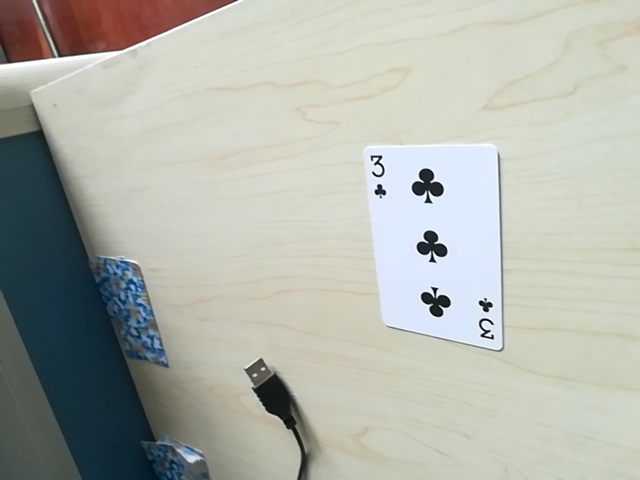mh 3: (366, 153, 408, 204), (469, 294, 497, 348)
